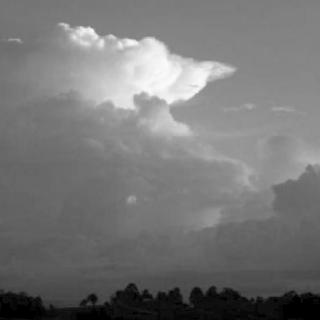Cumulonimbus: (0, 6, 320, 288)
